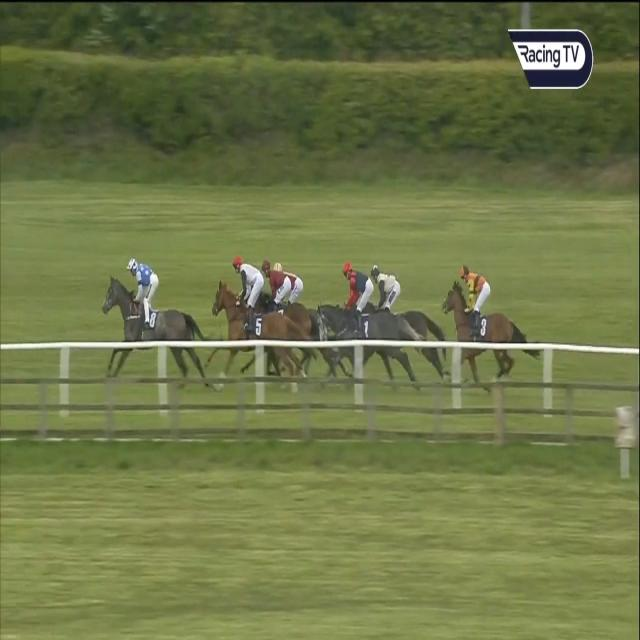horses-racing: (316, 262, 426, 389), (102, 259, 206, 387), (212, 257, 318, 380), (442, 262, 542, 374), (368, 264, 439, 329), (256, 256, 301, 314), (270, 255, 314, 310)
